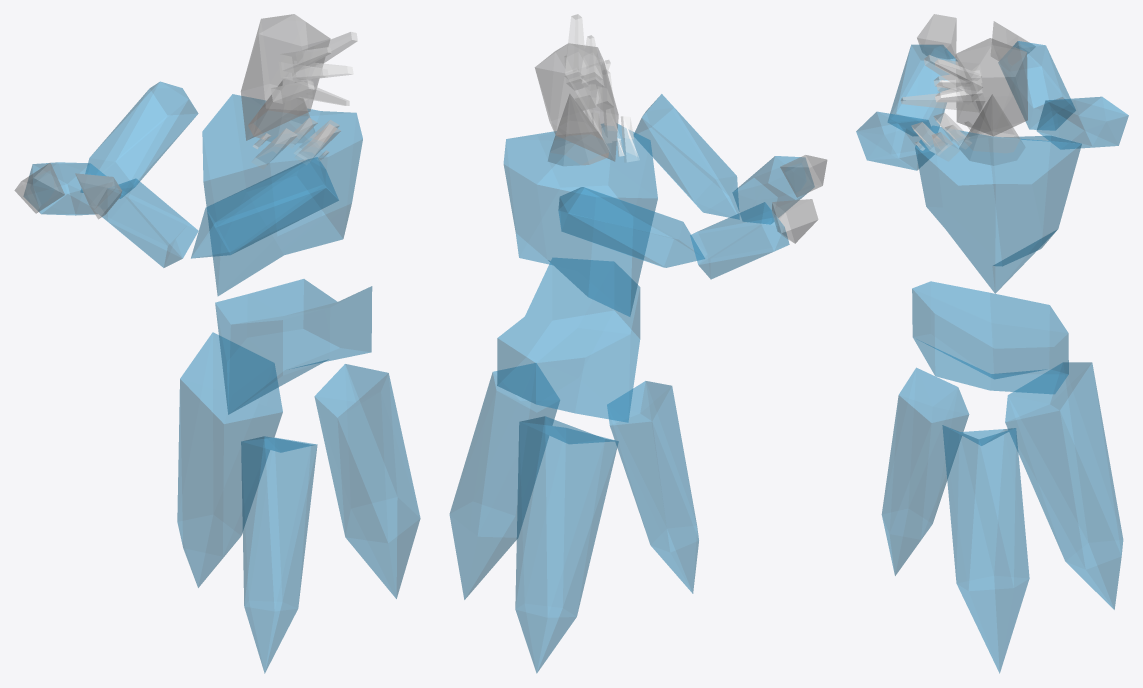
The model's file is ghostDistanceAttack21.obj.
3 renders of one model, left to right at view 1: azimuth 30°, elevation 25°; view 2: azimuth 150°, elevation 25°; view 3: azimuth 270°, elevation 25°, orthographic. The views are drawn at different scales.
Parts seen in each view (by area): view 1: Cube.001_Cube.007, Icosphere.020, Icosphere.019, Cube_Cube.007, Icosphere.018, Icosphere.005_Icosphere.007, Icosphere.003_Icosphere.007, Icosphere.007_Icosphere.006, Icosphere.006_Icosphere.006, Icosphere.008_Icosphere.006, Cone_Cone.007, Cube.003_Cube.007 (+7 smaller); view 2: Cube.001_Cube.007, Cube_Cube.007, Icosphere.020, Icosphere.019, Icosphere.018, Icosphere.003_Icosphere.007, Icosphere.007_Icosphere.006, Icosphere.005_Icosphere.007, Icosphere.008_Icosphere.006, Icosphere.006_Icosphere.006, Cone_Cone.007, Cube.003_Cube.007 (+4 smaller); view 3: Cube.001_Cube.007, Icosphere.020, Icosphere.019, Cube_Cube.007, Icosphere.018, Icosphere.003_Icosphere.007, Icosphere.008_Icosphere.006, Icosphere.007_Icosphere.006, Icosphere.006_Icosphere.006, Icosphere.005_Icosphere.007, Cone_Cone.007, Cube.002_Cube.007 (+7 smaller).
Boxes of the visible parts, x1=… form: Cube.001_Cube.007: x1=202, y1=94, x2=362, y2=295; Icosphere.020: x1=177, y1=332, x2=282, y2=587; Icosphere.019: x1=314, y1=364, x2=420, y2=598; Cube_Cube.007: x1=215, y1=279, x2=372, y2=414; Icosphere.018: x1=241, y1=436, x2=317, y2=673; Icosphere.005_Icosphere.007: x1=191, y1=157, x2=338, y2=258; Icosphere.003_Icosphere.007: x1=241, y1=14, x2=330, y2=140; Icosphere.007_Icosphere.006: x1=81, y1=81, x2=198, y2=198; Icosphere.006_Icosphere.006: x1=94, y1=178, x2=198, y2=267; Icosphere.008_Icosphere.006: x1=24, y1=162, x2=112, y2=215; Cone_Cone.007: x1=248, y1=80, x2=314, y2=143; Cube.003_Cube.007: x1=14, y1=163, x2=64, y2=213; Cube.001_Cube.007: x1=503, y1=124, x2=657, y2=316; Cube_Cube.007: x1=497, y1=258, x2=640, y2=422; Icosphere.020: x1=515, y1=416, x2=618, y2=673; Icosphere.019: x1=449, y1=363, x2=559, y2=599; Icosphere.018: x1=607, y1=381, x2=698, y2=593; Icosphere.003_Icosphere.007: x1=535, y1=43, x2=618, y2=161; Icosphere.007_Icosphere.006: x1=558, y1=187, x2=704, y2=267; Icosphere.005_Icosphere.007: x1=634, y1=94, x2=739, y2=219; Icosphere.008_Icosphere.006: x1=690, y1=202, x2=789, y2=279; Icosphere.006_Icosphere.006: x1=732, y1=156, x2=814, y2=224; Cone_Cone.007: x1=548, y1=94, x2=608, y2=165; Cube.003_Cube.007: x1=772, y1=199, x2=818, y2=243; Cube.001_Cube.007: x1=915, y1=125, x2=1081, y2=293; Icosphere.020: x1=1005, y1=362, x2=1123, y2=609; Icosphere.019: x1=942, y1=425, x2=1029, y2=673; Cube_Cube.007: x1=912, y1=281, x2=1068, y2=394; Icosphere.018: x1=881, y1=367, x2=969, y2=575; Icosphere.003_Icosphere.007: x1=955, y1=38, x2=1027, y2=136; Icosphere.008_Icosphere.006: x1=998, y1=41, x2=1075, y2=130; Icosphere.007_Icosphere.006: x1=1036, y1=96, x2=1128, y2=149; Icosphere.006_Icosphere.006: x1=888, y1=44, x2=956, y2=135; Icosphere.005_Icosphere.007: x1=856, y1=111, x2=934, y2=170; Cone_Cone.007: x1=959, y1=94, x2=1025, y2=165; Cube.002_Cube.007: x1=917, y1=14, x2=956, y2=59.
Size of the model in its own units: 30.73 by 46.64 by 19.86.
